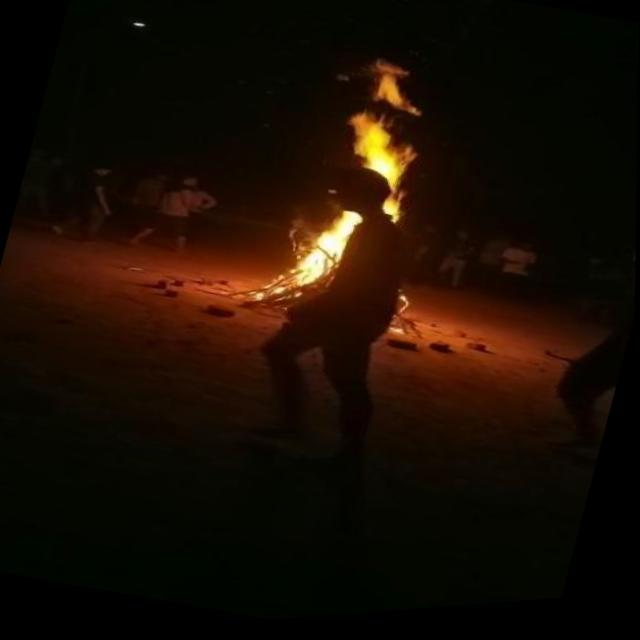fire: (324, 45, 460, 197), (277, 193, 366, 298)
